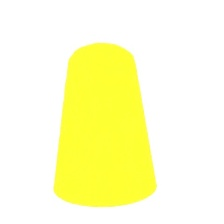glass: (46, 36, 173, 213)
